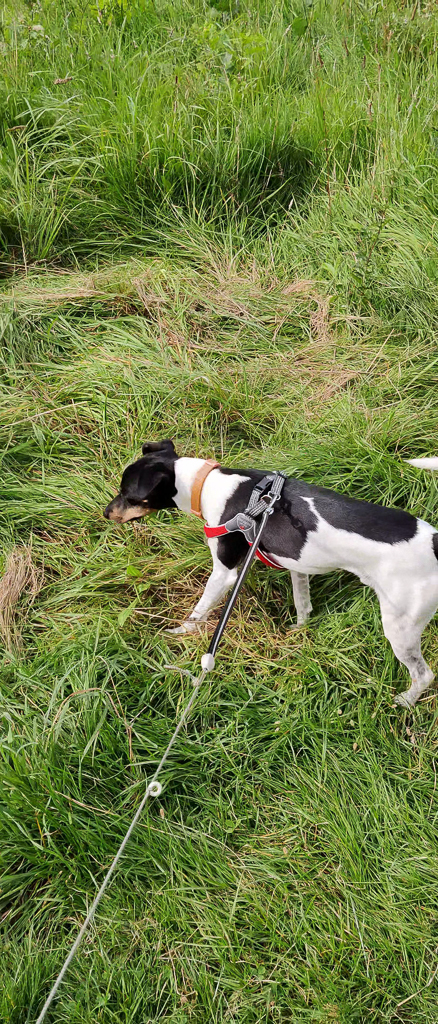Dog: (95, 435, 438, 717)
